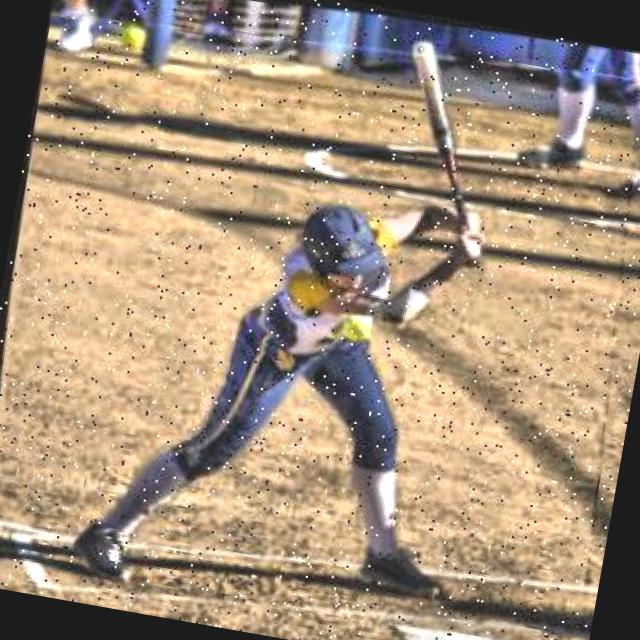Tennis Ball: (327, 309, 372, 354), (119, 22, 144, 48)
